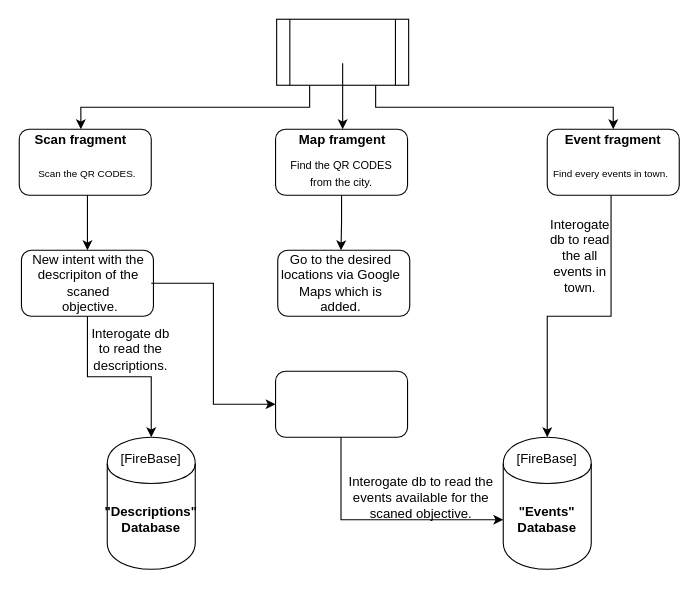
Some shapes in this 699 by 589 pixel diagram are drawn without their labels. The shapes that lost their labels are listed below. From the top down, each one's centre as x and y in pixels, then its label:
At point (342, 51): "Mobile App [Android Studio]".
At point (341, 403): "See the events available for that place.".
